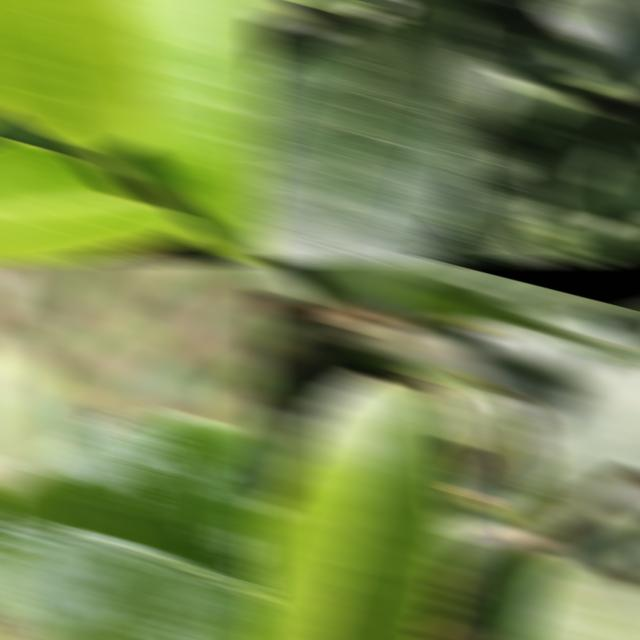Leaf: (0, 411, 270, 640), (254, 372, 459, 640), (254, 20, 468, 264), (107, 0, 270, 260), (395, 0, 528, 264), (0, 137, 194, 264), (0, 0, 157, 156), (509, 357, 640, 532), (395, 279, 640, 372), (519, 552, 640, 640), (536, 0, 640, 99), (462, 546, 554, 640), (491, 69, 583, 151), (531, 174, 640, 236), (482, 28, 577, 88), (550, 485, 640, 539), (525, 219, 624, 260), (575, 138, 640, 190)
